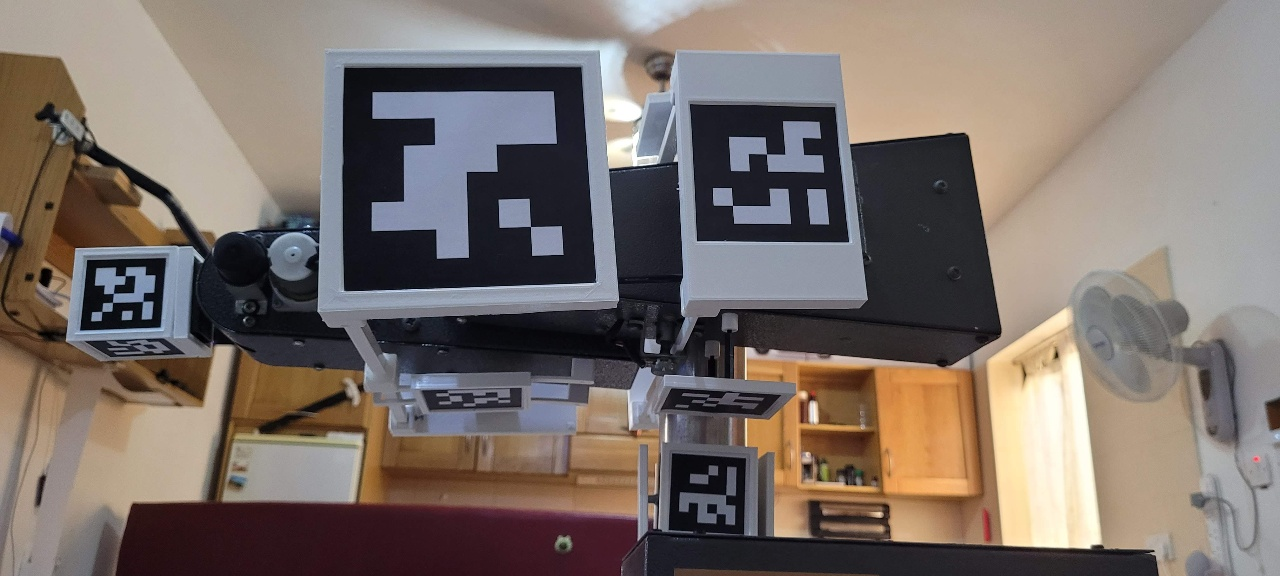Robot: (65, 48, 1004, 540)
